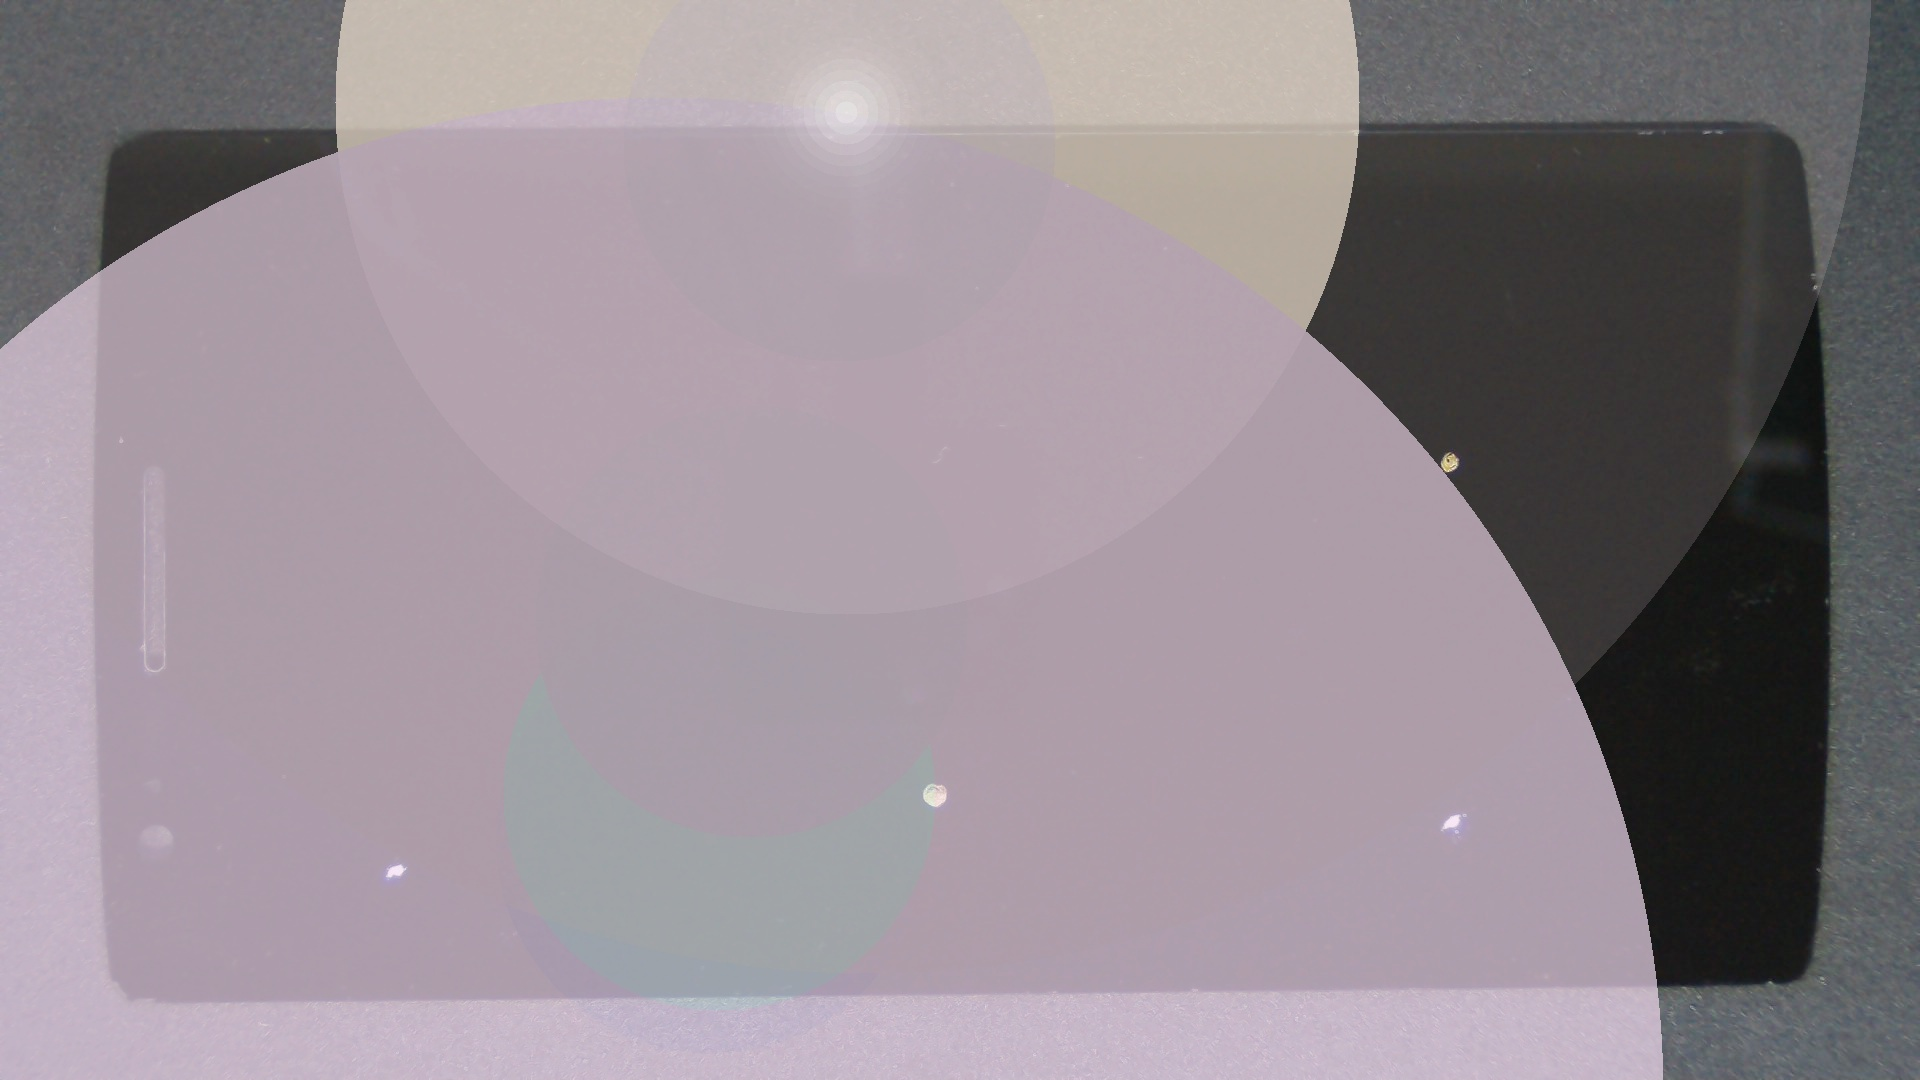oil: (731, 406, 1920, 1080), (467, 390, 1398, 1080), (725, 224, 1920, 675), (202, 429, 604, 1080)
